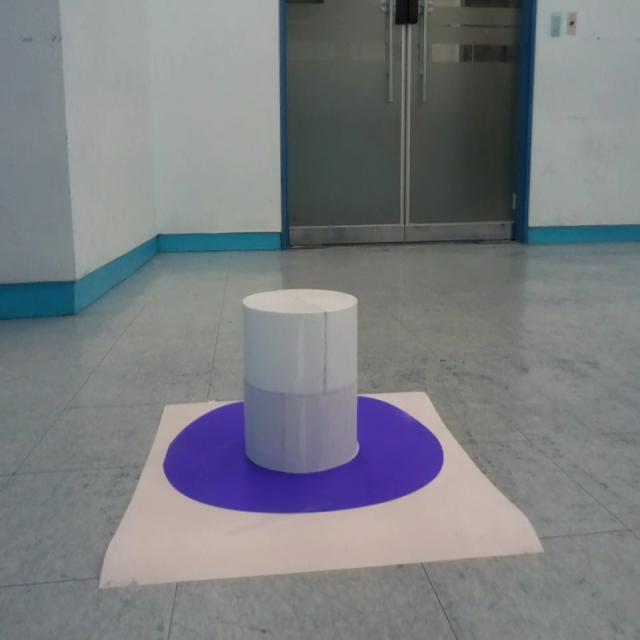cylinder: (241, 288, 360, 472)
